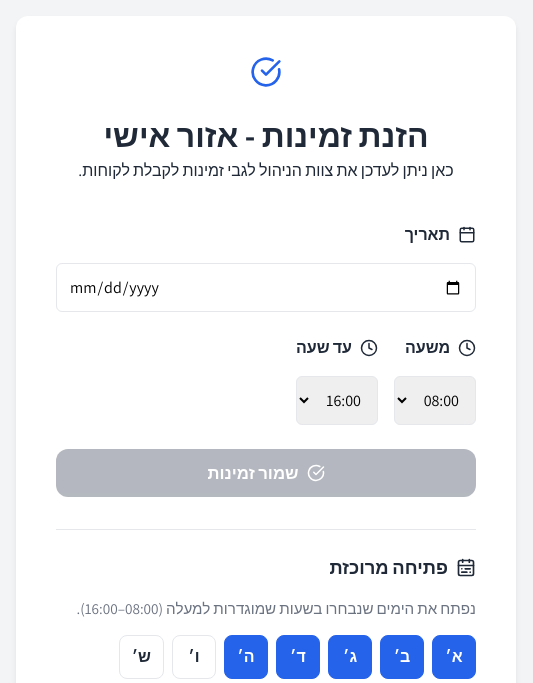
EmployeeAvailabilityPage › rejects a window whose end is not after its start
The width and height of the screenshot is (533, 683).
Type "2099-02-01" into the date field labelled "תאריך".
click(266, 288); type("2099-02-01")  # box [56,263,476,312]
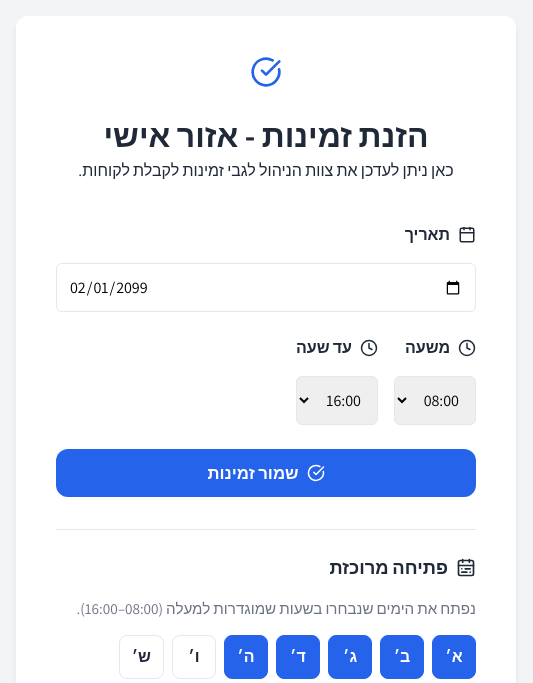
Select "16:00" in the dropdown labelled "משעה" at x=435, y=400, box [394,376,476,425]
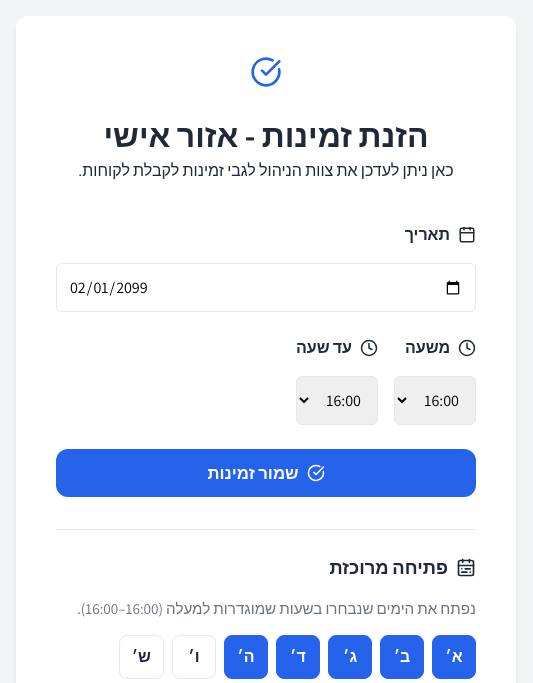
Select "16:00" in the dropdown labelled "עד שעה" at x=337, y=400, box [296,376,378,425]
Submit the form "תאריך משעה עד שעה שמור זמינות", box [56,223,476,497]
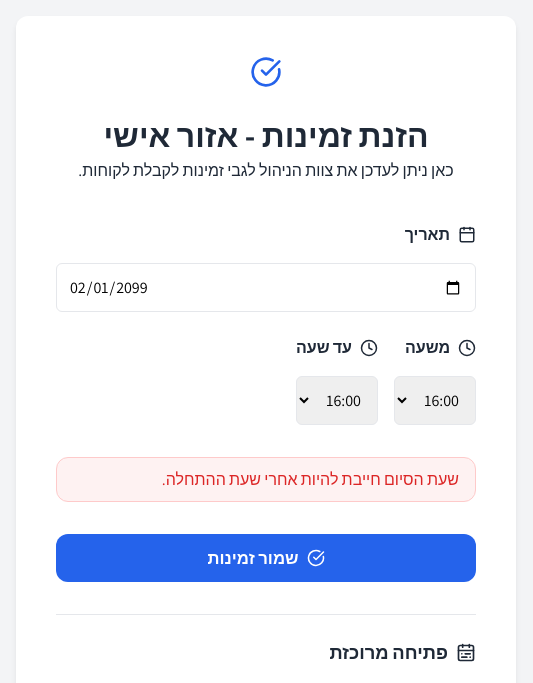
Check: the text "שעת הסיום חייבת להיות אחרי שעת ההתחלה." is shown, box [56,457,476,502]
